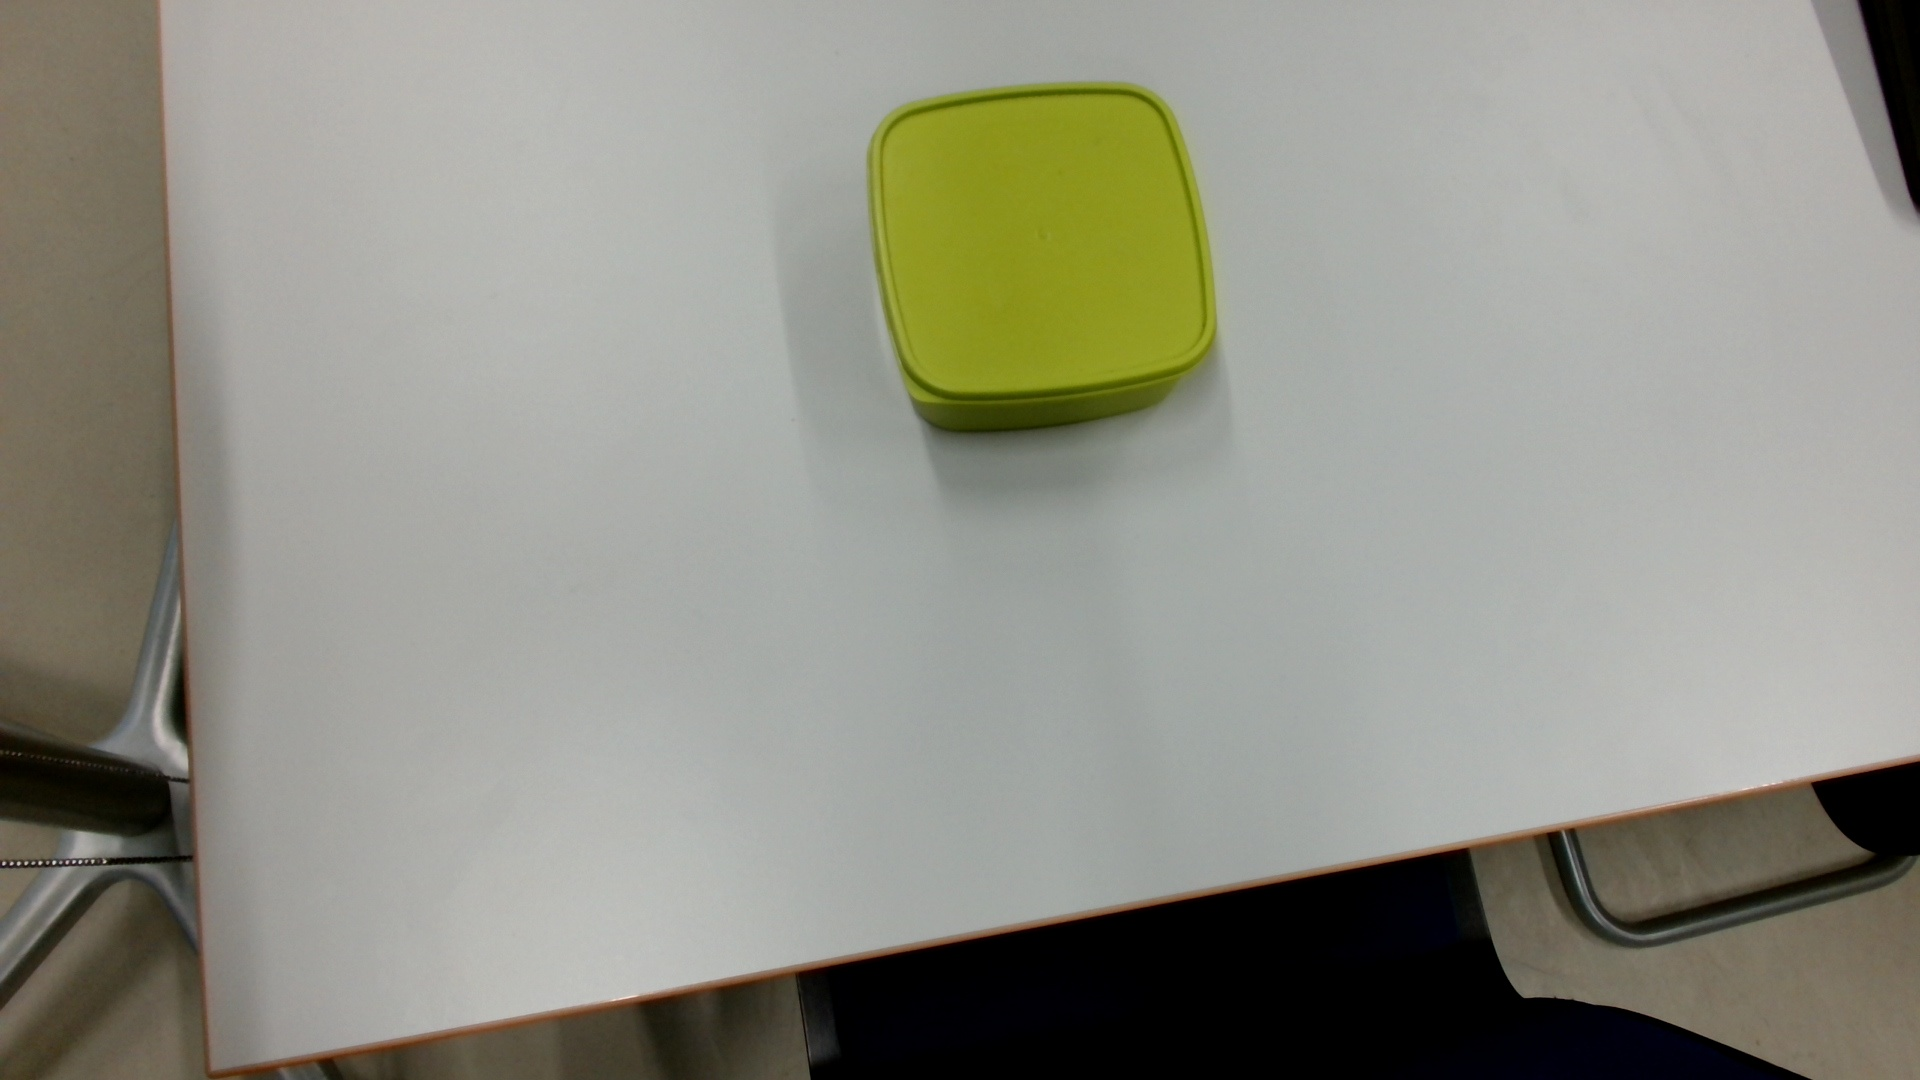Box: (855, 75, 1232, 444)
